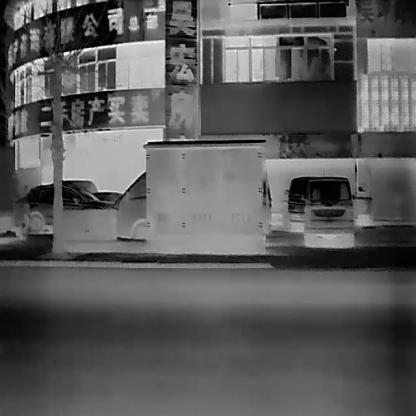car: (12, 182, 115, 232), (303, 175, 355, 248), (284, 176, 305, 232)
